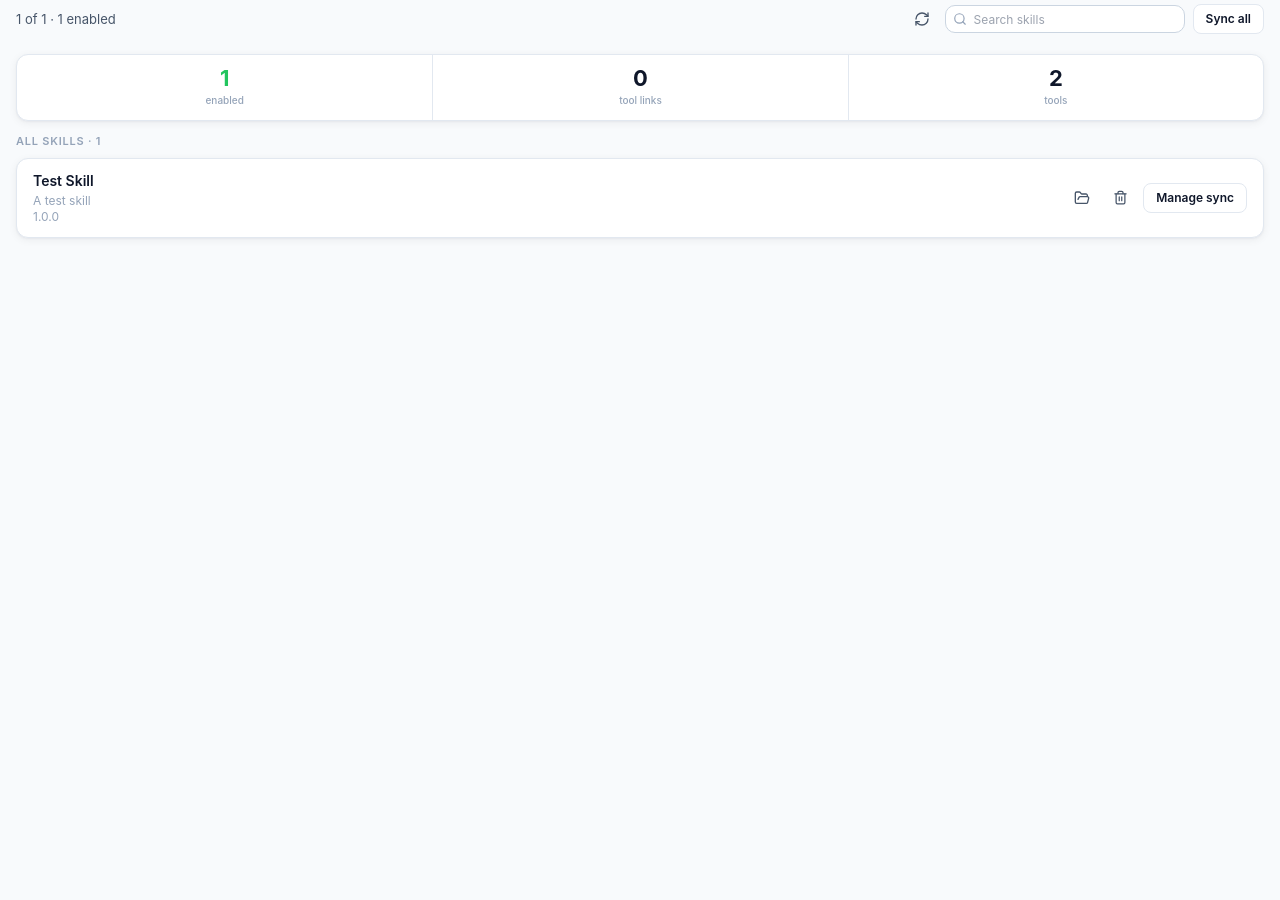
MySkillsPage › keeps sync-all switch off and shows failure details when all tools fail during sync-all
Click the button with aria-label "Manage sync for Test Skill": (1195, 198) [1143,182,1247,212]
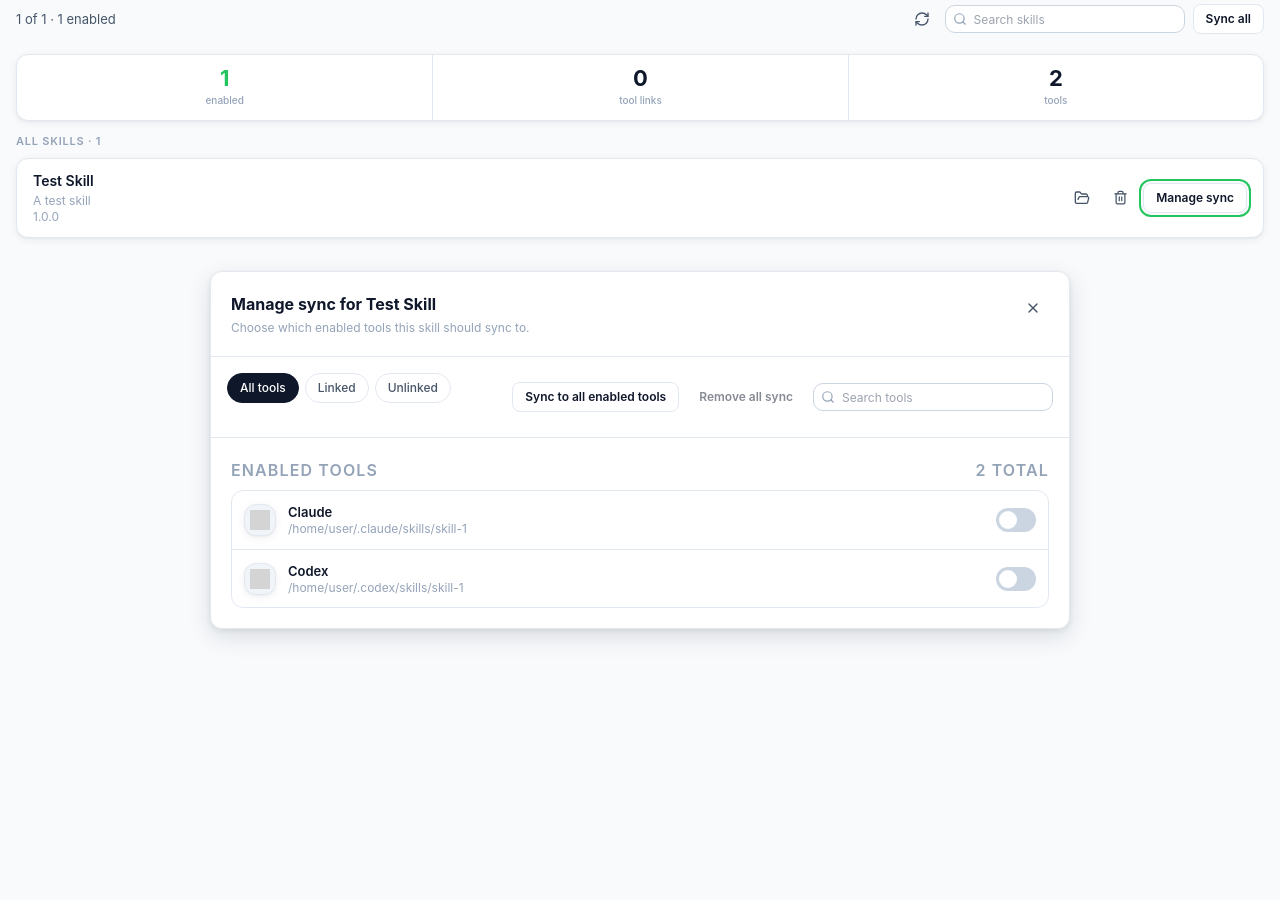
Click the button "Sync to all enabled tools": (596, 397) [512,382,679,412]
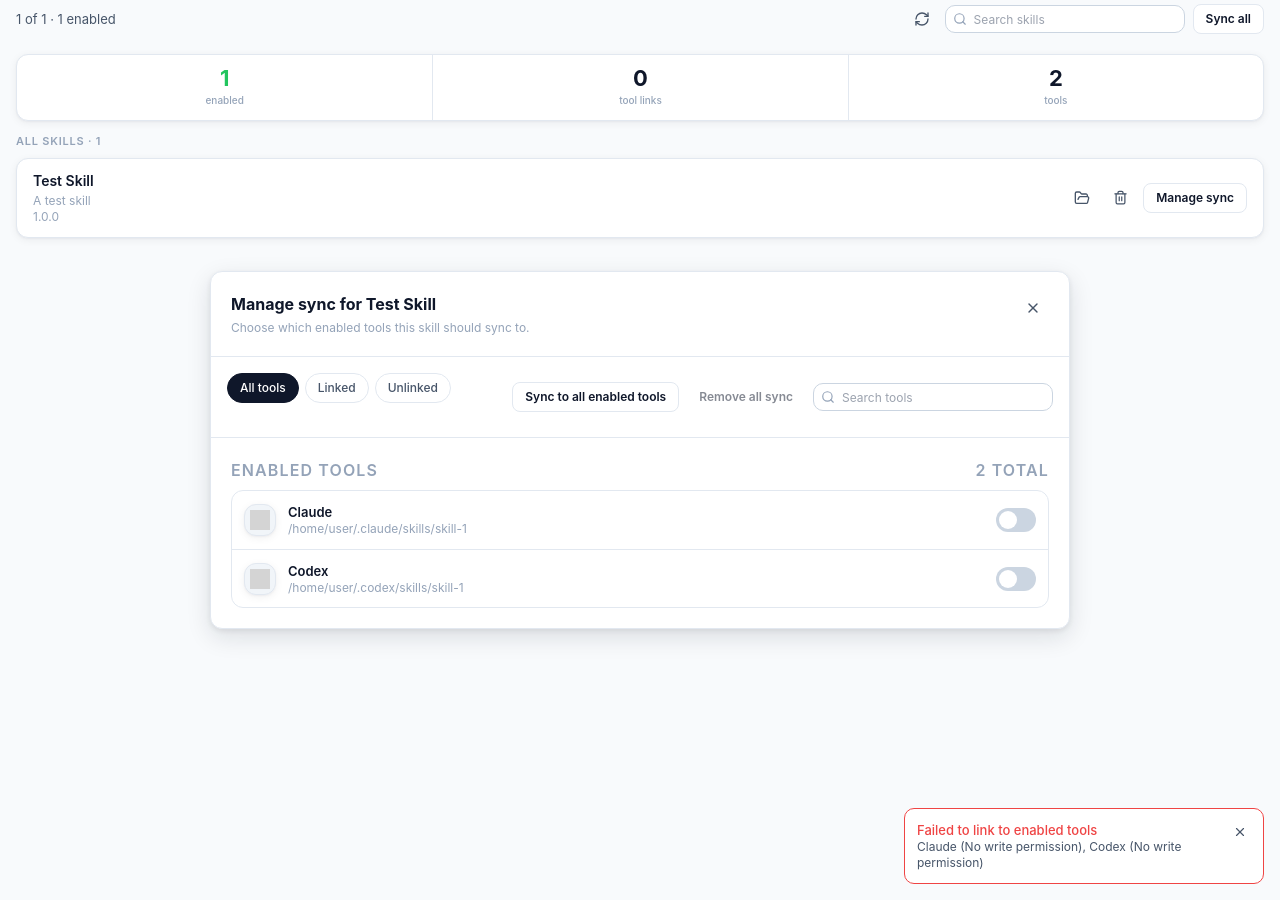
Now the button "Sync to all enabled tools" is enabled, box [512,382,679,412]
Now the text "Failed to link to enabled tools" is shown, box [917,822,1097,838]
Now the text "Claude (No write permission), Codex (No write permission)" is shown, box [917,839,1227,871]
